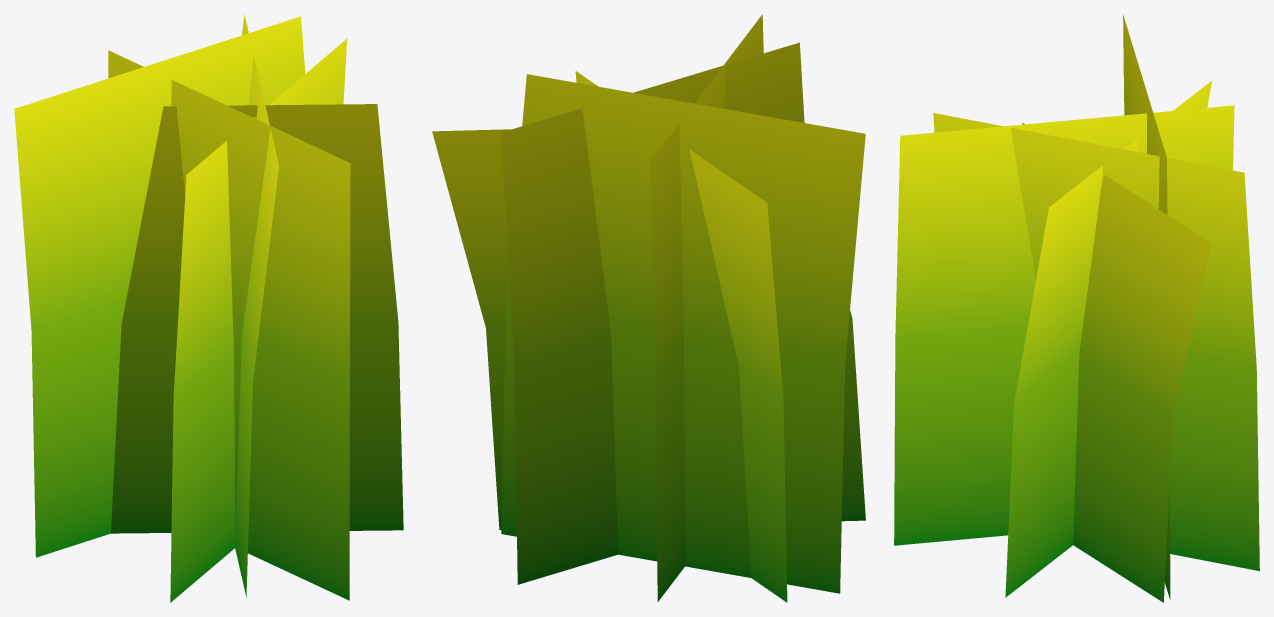
Rendered from SM_Wheat_B.fbx.
3 views of the same model, side by side, from view 1: azimuth 30°, elevation 25°; view 2: azimuth 150°, elevation 25°; view 3: azimuth 270°, elevation 25° (orthographic). The views are drawn at different scales.
Visible parts, largest first — view 1: SM_Wheat_B; view 2: SM_Wheat_B; view 3: SM_Wheat_B.
Boxes of the visible parts, x1,y1,x2,y2 form: SM_Wheat_B: (14,14,403,602); SM_Wheat_B: (432,14,865,602); SM_Wheat_B: (894,14,1259,602).
Size of the model in its own units: 85.05 by 74.87 by 97.67.
